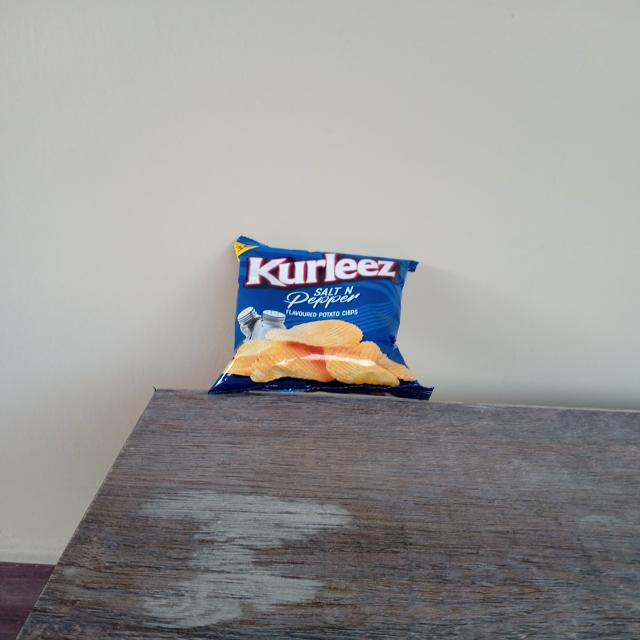Plastic: (210, 233, 432, 399)
